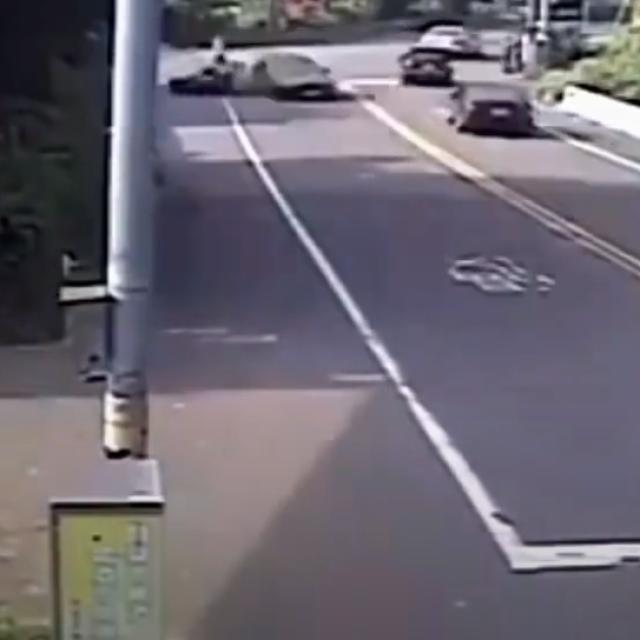accident: (166, 47, 337, 105)
non-accident: (400, 49, 538, 138), (400, 23, 480, 86)
